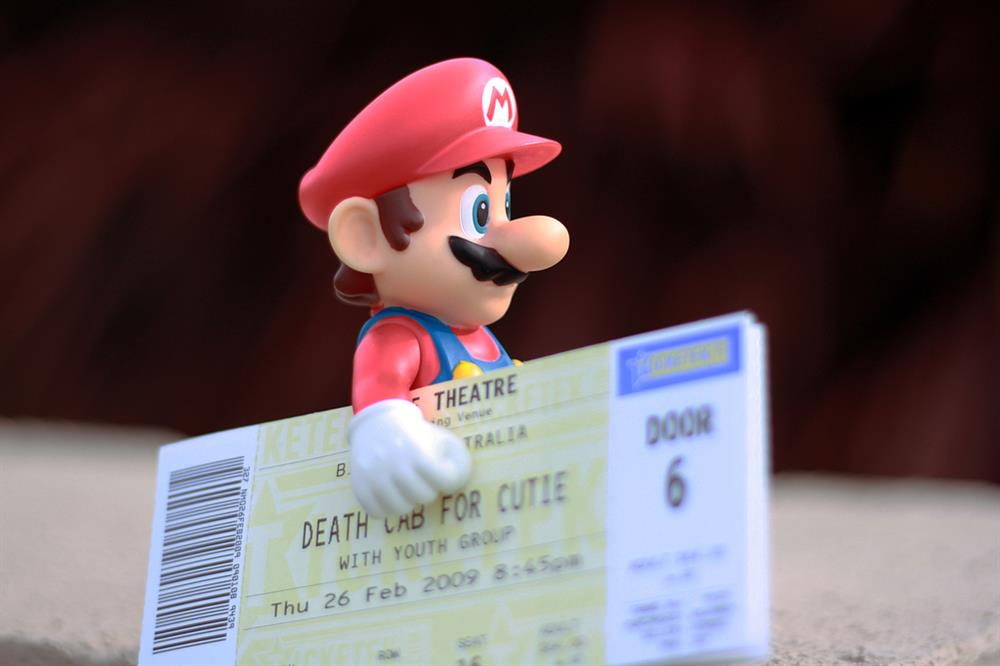mario: (287, 30, 574, 506)
